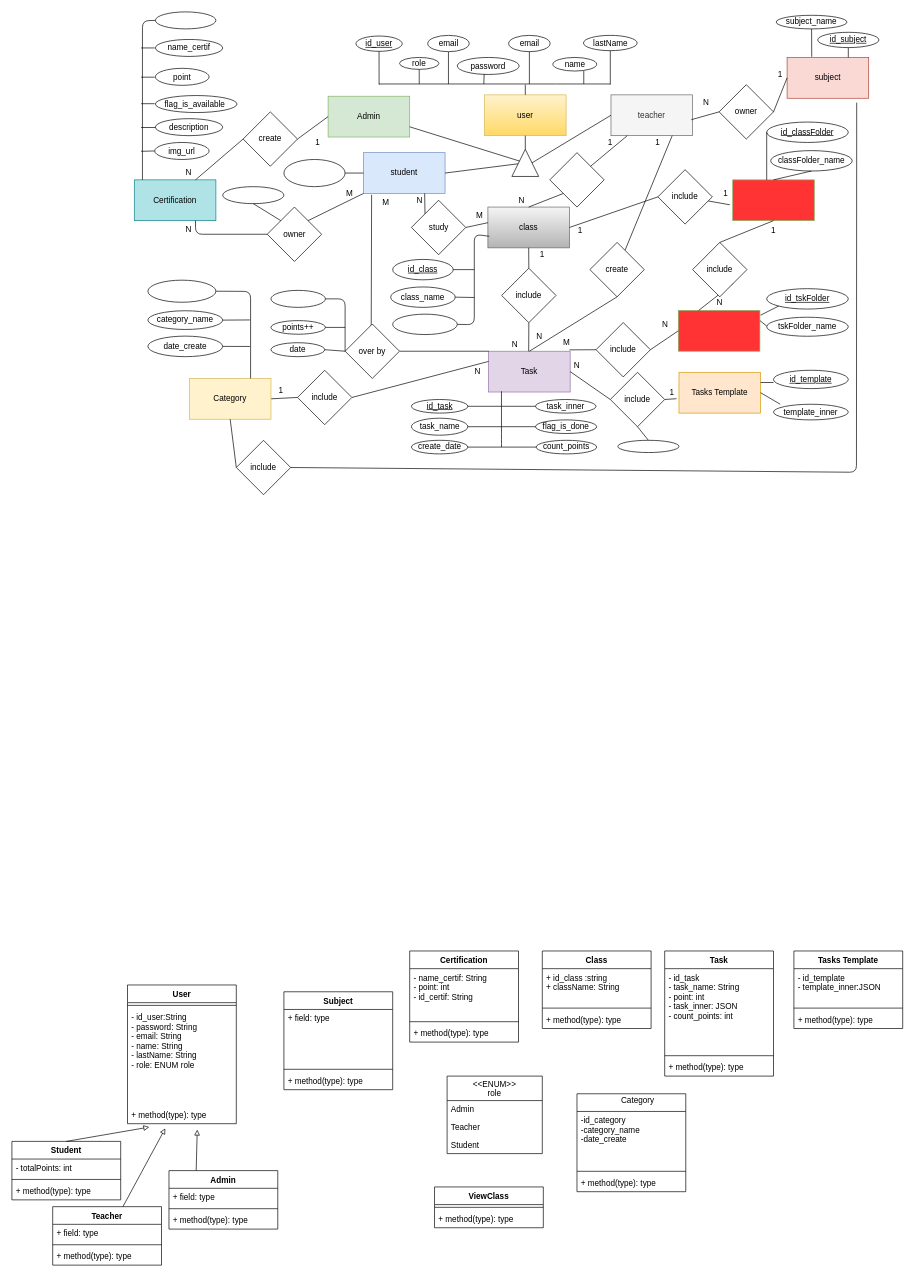
This 915x1279 diagram has some shape labels left out. The centre of each missing label's shape, as x and y in pixels:
Class Folder: the point at 773,200
class_level: the point at 424,324
date_get: the point at 253,195
id_category: the point at 181,290
id_certif: the point at 185,20
isa: the point at 525,162
task done: the point at 297,298
Task's Folder: the point at 719,330
teach: the point at 576,179
total points: the point at 314,173
type_task: the point at 648,446
